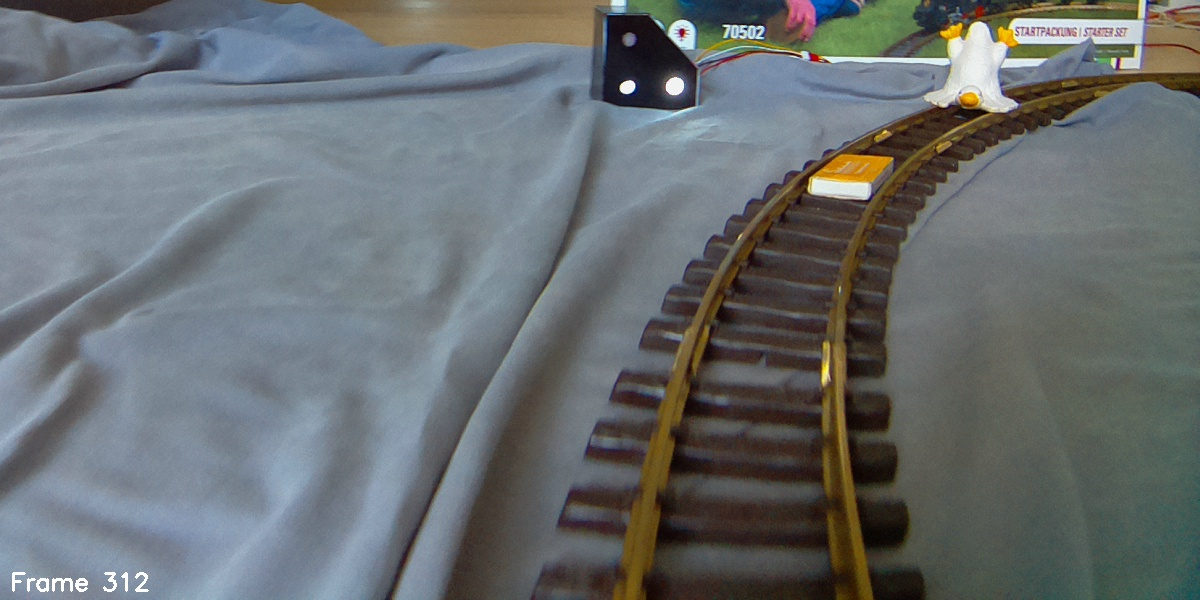Halt: (590, 9, 701, 114)
